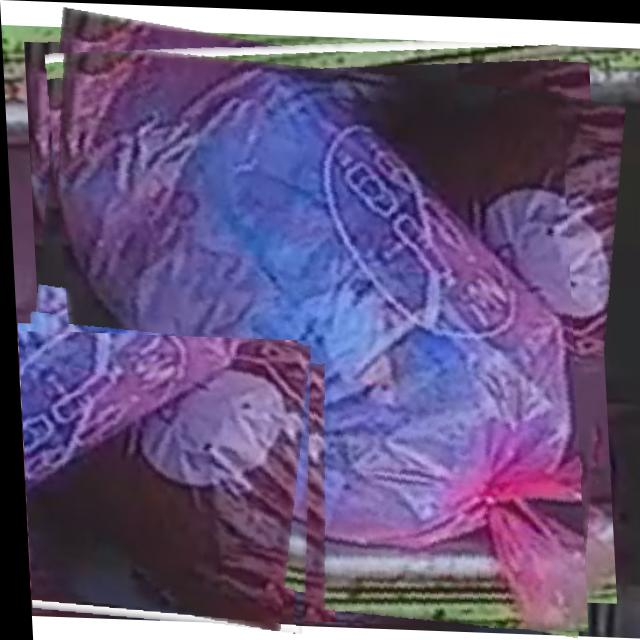other_trashbag: (53, 44, 581, 625), (20, 338, 307, 630)
